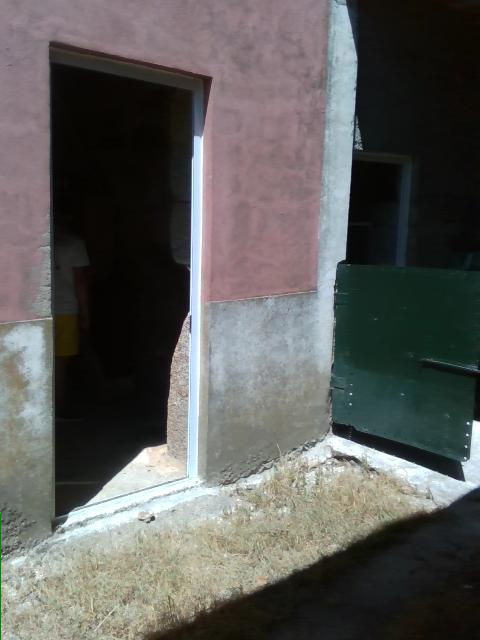open_door: (49, 38, 214, 541)
